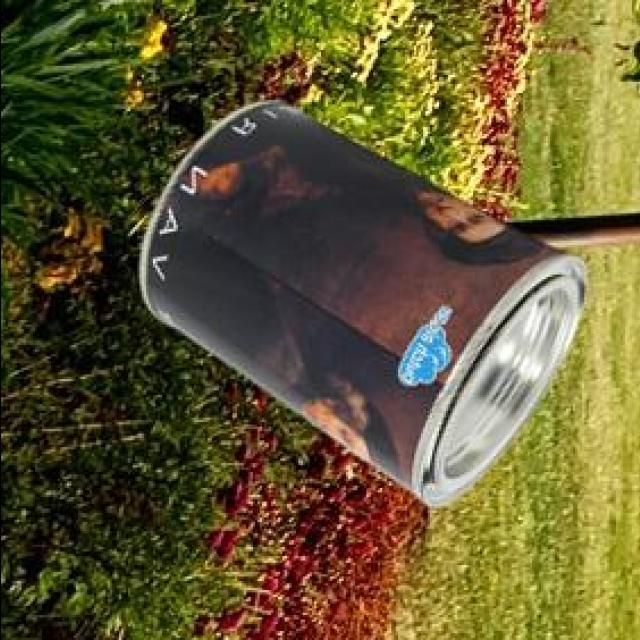logam: (142, 106, 589, 510)
